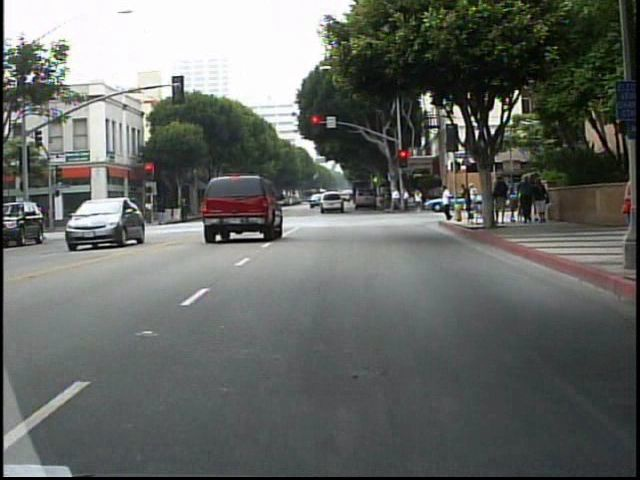person: (491, 173, 509, 226), (460, 179, 476, 222), (438, 183, 453, 225), (144, 196, 160, 226)
